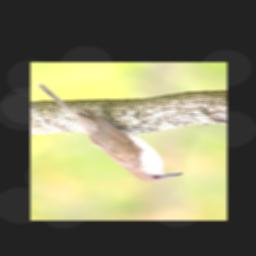Cuckoo: (36, 82, 185, 182)
